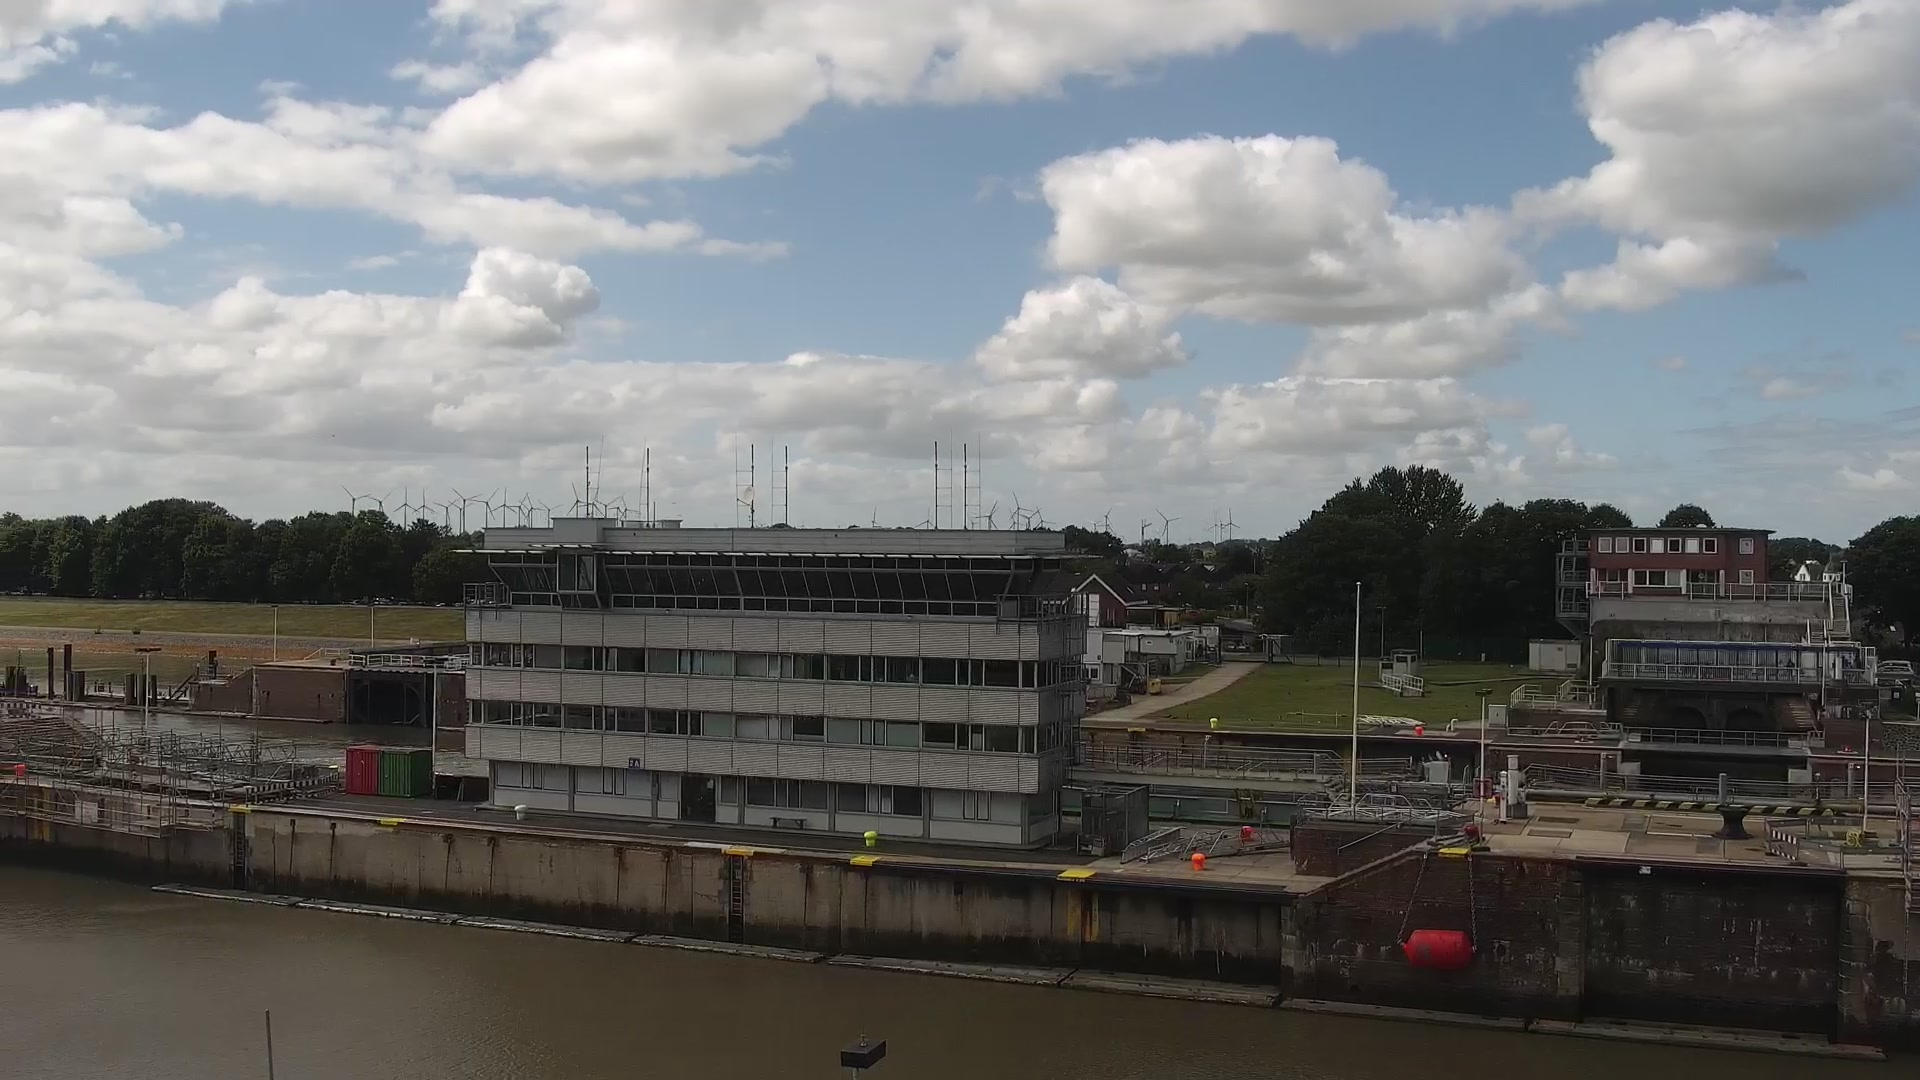human: (1785, 656, 1796, 680)
